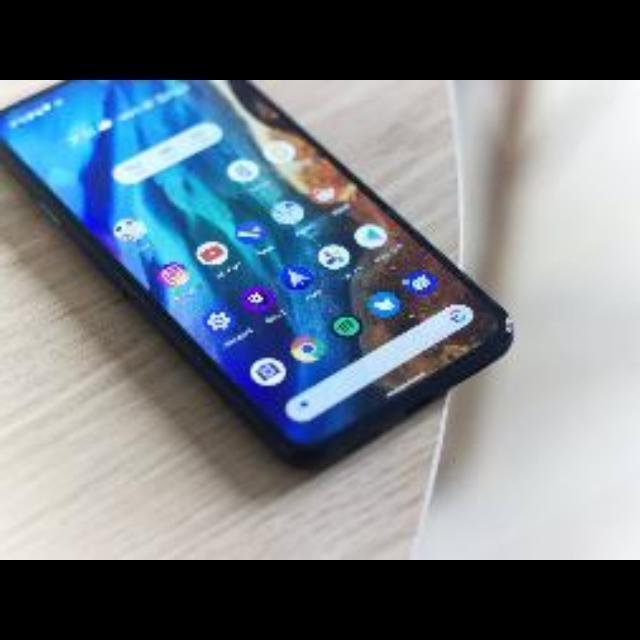mobile: (0, 80, 513, 472)
